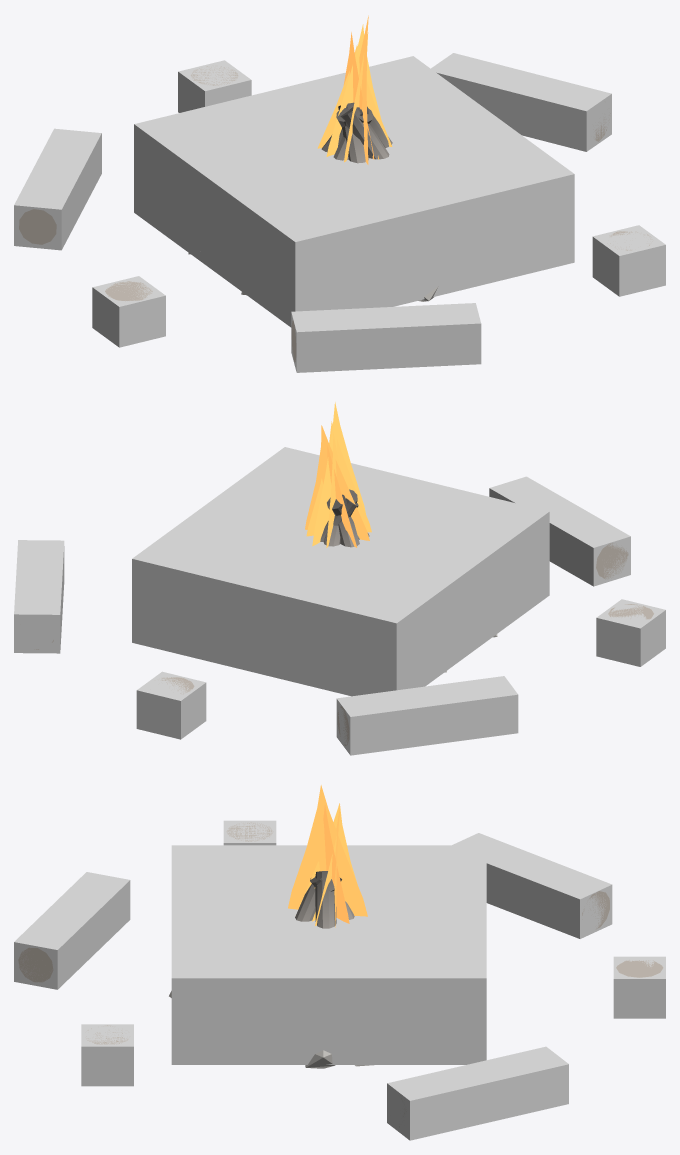
The model's file is prop_bonfire_main.glb.
3 views of the same model, one above another, from view 1: azimuth 30°, elevation 25°; view 2: azimuth 150°, elevation 25°; view 3: azimuth 270°, elevation 25° (orthographic). The views are drawn at different scales.
Parts seen in each view (by area): view 1: col_fire, col_seat_2, col_seat_0, col_seat_1, col_seat_5, col_seat_4, flames, col_seat_3, seats, log_stack; view 2: col_fire, col_seat_1, col_seat_2, col_seat_0, flames, col_seat_3, col_seat_4, seats, log_stack; view 3: col_fire, col_seat_0, col_seat_1, col_seat_2, flames, col_seat_5, col_seat_3, seats, log_stack, col_seat_4.
Boxes of the visible parts, x1,y1,x2,y2 form: col_fire: [134, 56, 574, 327]; col_seat_2: [291, 303, 481, 372]; col_seat_0: [431, 53, 611, 151]; col_seat_1: [14, 128, 101, 250]; col_seat_5: [592, 225, 665, 296]; col_seat_4: [92, 276, 165, 347]; flames: [317, 15, 392, 164]; col_seat_3: [178, 60, 251, 112]; seats: [19, 66, 652, 361]; log_stack: [321, 102, 392, 163]; col_fire: [132, 447, 549, 696]; col_seat_1: [336, 676, 518, 755]; col_seat_2: [489, 476, 630, 586]; col_seat_0: [14, 540, 64, 653]; flames: [305, 402, 371, 547]; col_seat_3: [136, 671, 206, 739]; col_seat_4: [596, 599, 665, 666]; seats: [34, 543, 653, 745]; log_stack: [320, 489, 369, 547]; col_fire: [171, 845, 486, 1064]; col_seat_0: [387, 1046, 568, 1140]; col_seat_1: [452, 833, 612, 938]; col_seat_2: [14, 872, 130, 989]; flames: [288, 785, 367, 927]; col_seat_5: [81, 1024, 133, 1086]; col_seat_3: [613, 956, 665, 1018]; seats: [18, 822, 663, 1127]; log_stack: [295, 871, 354, 928]; col_seat_4: [223, 820, 276, 845].
Size of the model in its own units: 6.95 by 2.67 by 6.83.
